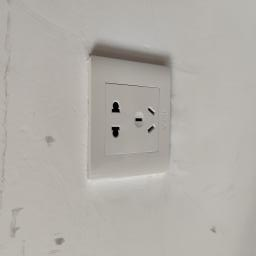outlet: (79, 50, 179, 191)
